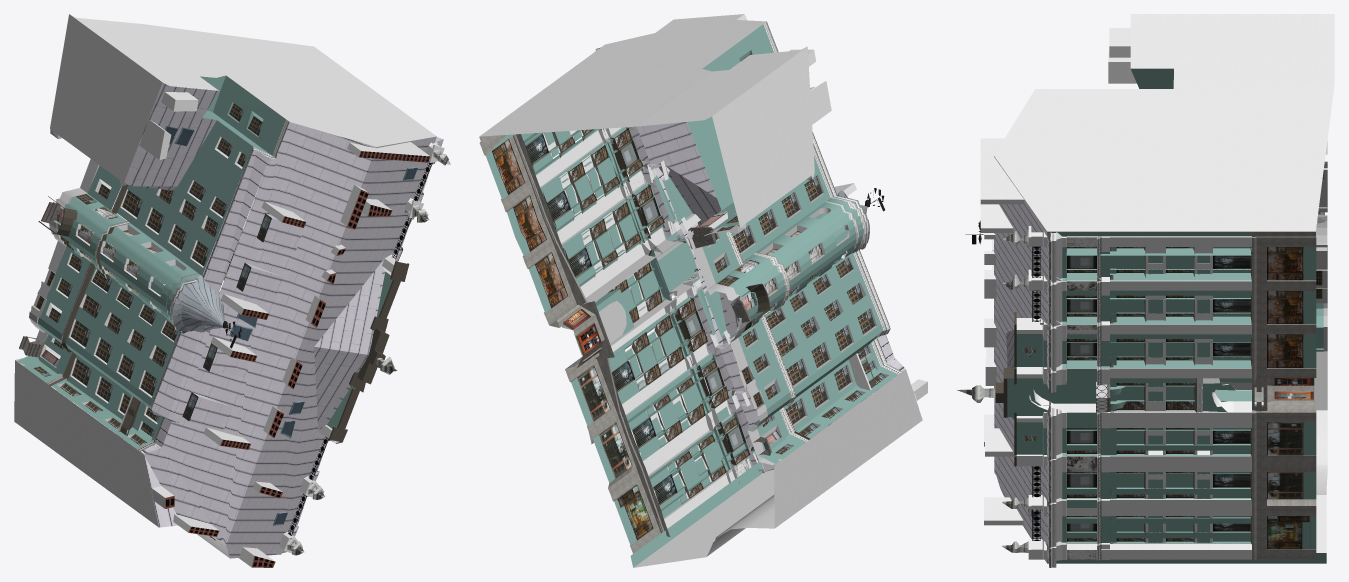
File: Myyrivahe_34-origo.obj
The picture shows the model from 3 angles, left to right: view 1: azimuth 30°, elevation 25°; view 2: azimuth 150°, elevation 25°; view 3: azimuth 270°, elevation 25°; orthographic projection. The views are drawn at different scales.
Visible parts, largest first — view 1: Myyrivahe_34; view 2: Myyrivahe_34; view 3: Myyrivahe_34.
Boxes of the visible parts, bbox=[...] form: Myyrivahe_34: bbox=[14, 14, 450, 567]; Myyrivahe_34: bbox=[479, 14, 927, 567]; Myyrivahe_34: bbox=[957, 14, 1334, 567].
Size of the model in its own units: 28.31 by 41.5 by 28.09.
